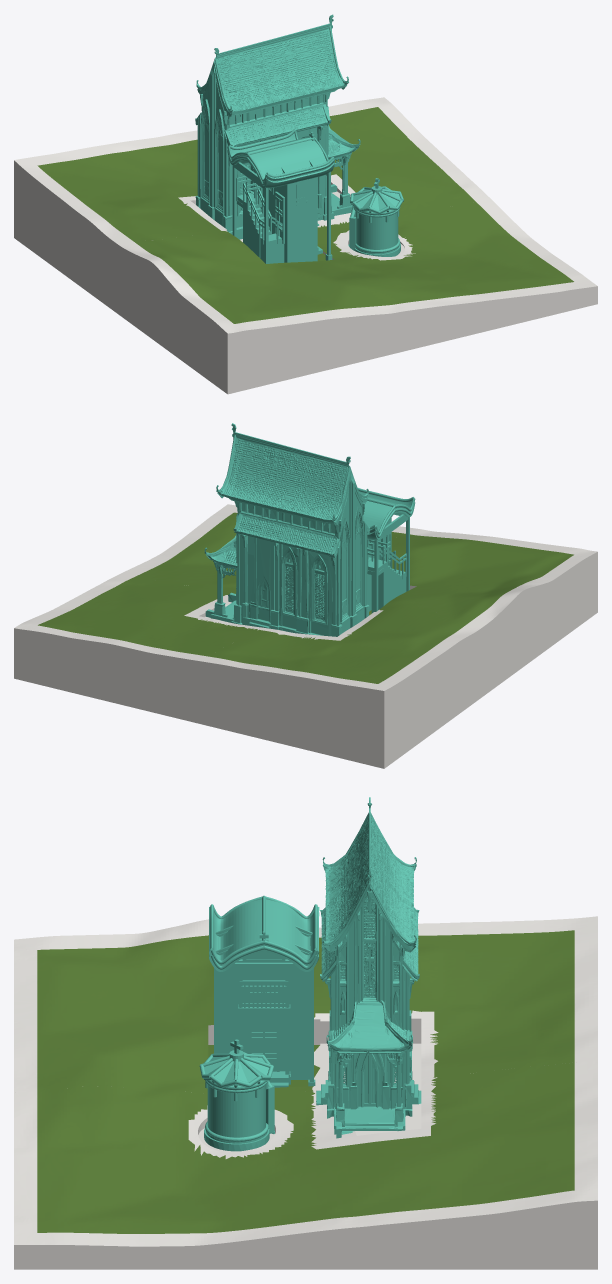
The model's file is domus-model.glb.
The picture shows the model from 3 angles, top to bottom: view 1: azimuth 30°, elevation 25°; view 2: azimuth 150°, elevation 25°; view 3: azimuth 270°, elevation 25°; orthographic projection. The views are drawn at different scales.
Parts seen in each view (by area): view 1: Ground, Base, Chapel, Villa, Pavilion; view 2: Base, Ground, Chapel, Villa; view 3: Ground, Base, Chapel, Villa, Pavilion.
Boxes of the visible parts, bbox=[...] form: Ground: bbox=[37, 107, 573, 323]; Base: bbox=[14, 97, 597, 394]; Chapel: bbox=[195, 14, 360, 239]; Villa: bbox=[227, 129, 334, 263]; Pavilion: bbox=[348, 178, 403, 256]; Base: bbox=[14, 504, 597, 768]; Ground: bbox=[38, 512, 573, 683]; Chapel: bbox=[204, 423, 370, 636]; Villa: bbox=[357, 488, 415, 613]; Ground: bbox=[37, 930, 574, 1233]; Base: bbox=[14, 916, 597, 1269]; Chapel: bbox=[316, 797, 421, 1138]; Villa: bbox=[209, 895, 319, 1087]; Pavilion: bbox=[199, 1039, 274, 1151].
Bounding box in the file's own units: 0.4 × 0.2622 × 0.4.
